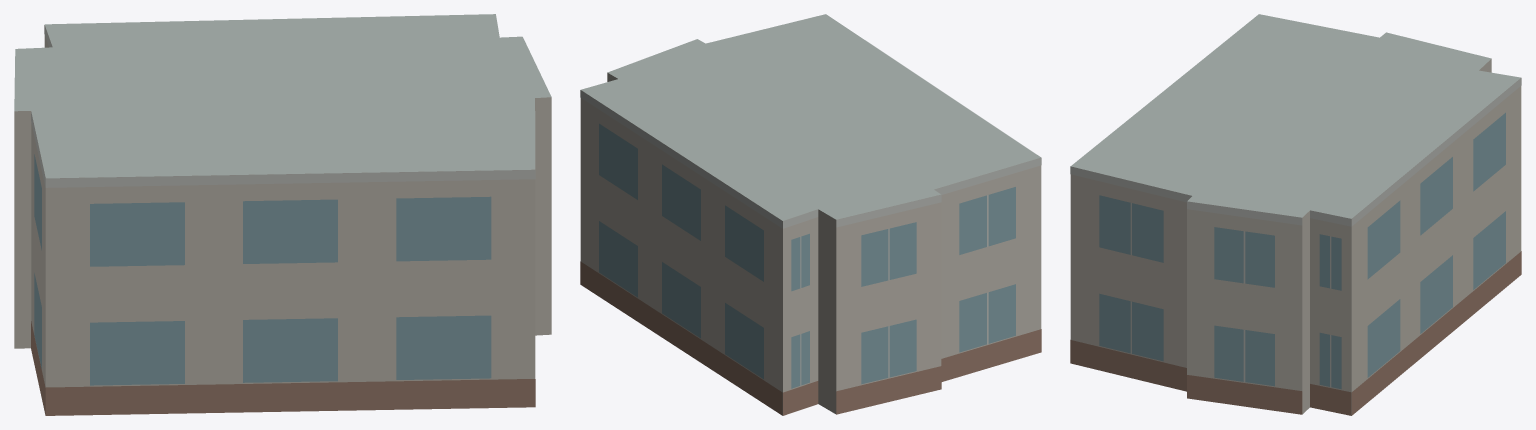
File: survey-upis-32652980.glb
3 renders of one model, left to right at view 1: azimuth 30°, elevation 25°; view 2: azimuth 150°, elevation 25°; view 3: azimuth 270°, elevation 25°, orthographic. The views are drawn at different scales.
Visible parts, largest first — view 1: survey-upis-32652980.tmp; view 2: survey-upis-32652980.tmp; view 3: survey-upis-32652980.tmp.
Boxes of the visible parts, box(x1,y1,x2,y2) form: survey-upis-32652980.tmp: box(14, 14, 551, 415); survey-upis-32652980.tmp: box(580, 14, 1041, 415); survey-upis-32652980.tmp: box(1070, 14, 1521, 415).
Bounding box in the file's own units: 13.61 × 6.1 × 12.66.
